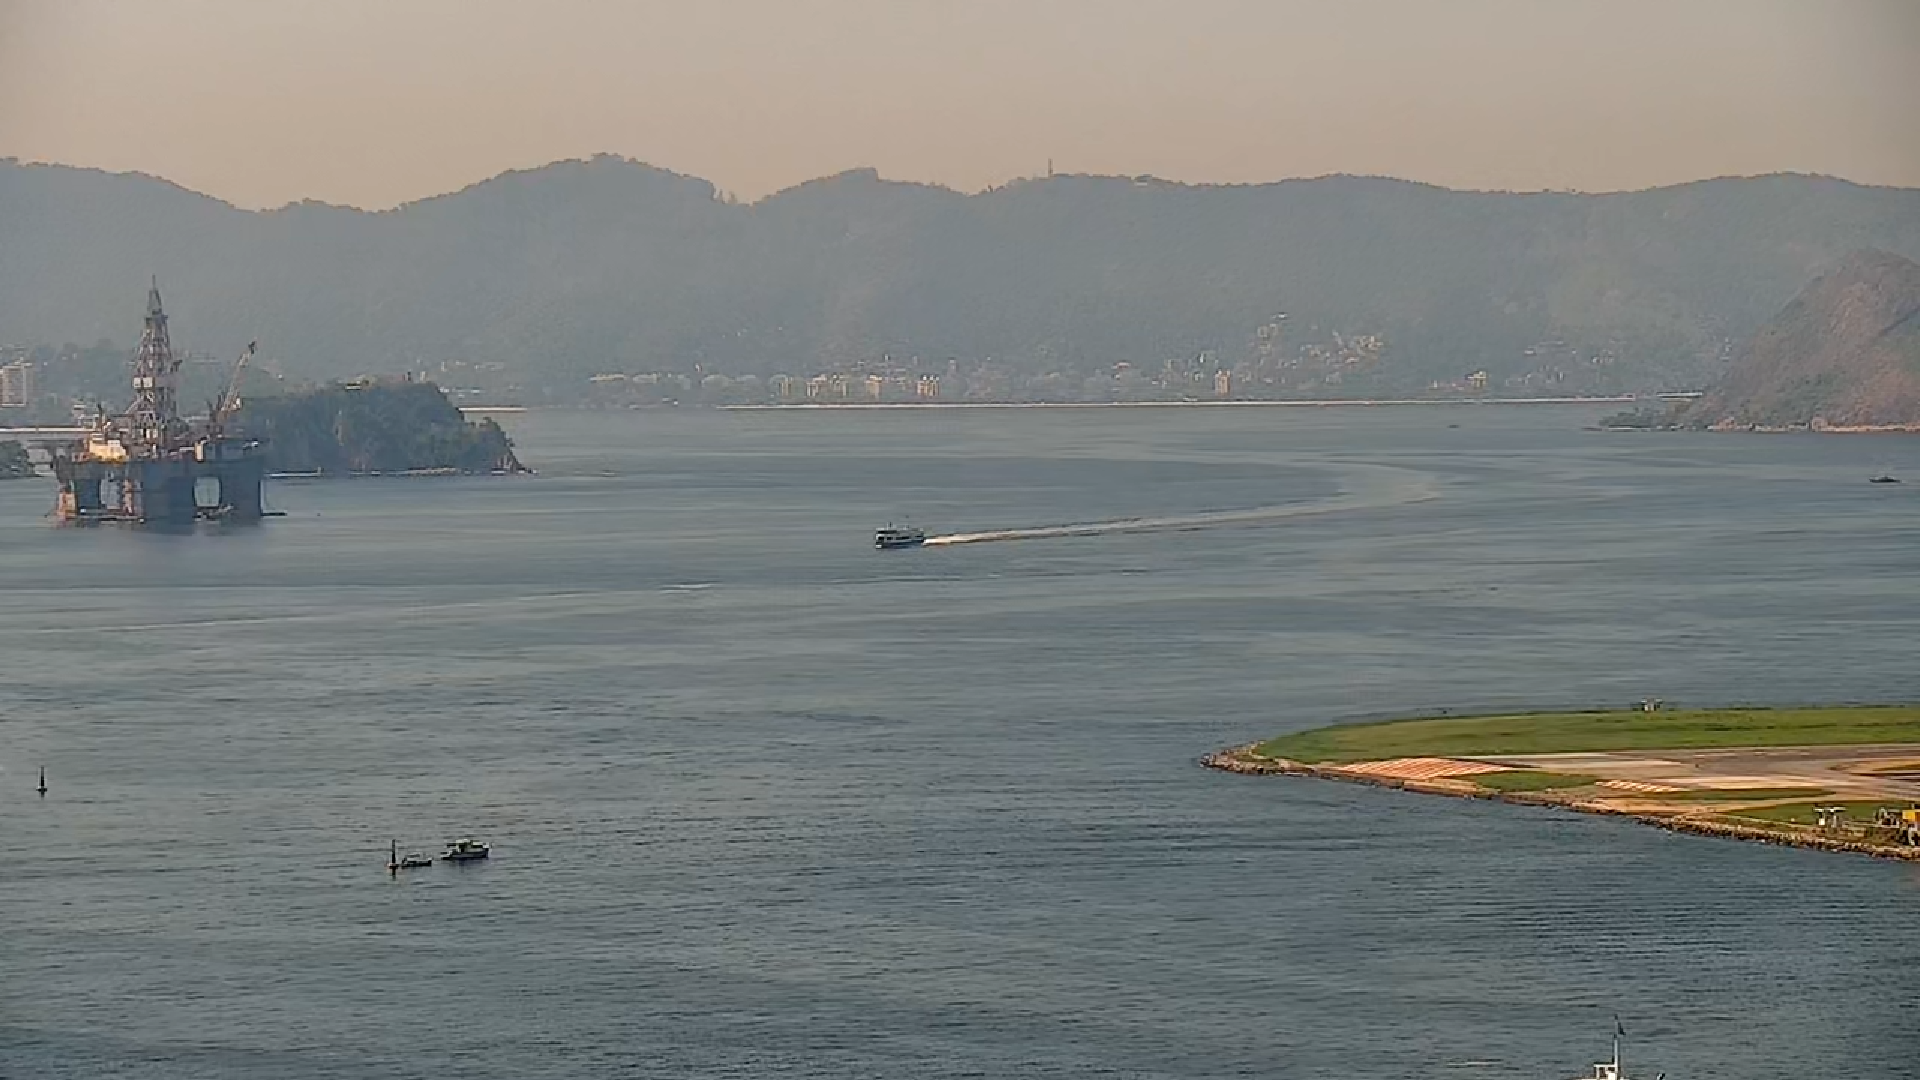Ship1: (873, 517, 927, 551)
Ship7: (439, 836, 495, 862), (400, 851, 434, 868), (1867, 472, 1902, 487)
